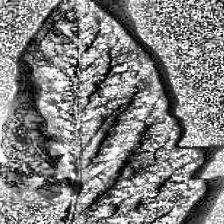spider mites: (0, 0, 204, 224)
